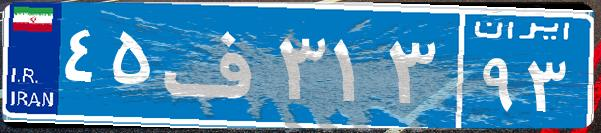1: (330, 28, 385, 110)
3: (385, 28, 445, 110), (273, 28, 330, 110), (525, 38, 570, 115)
4: (57, 26, 110, 107)
5: (110, 28, 158, 105)
9: (475, 38, 525, 113)
ف: (158, 15, 273, 115)
